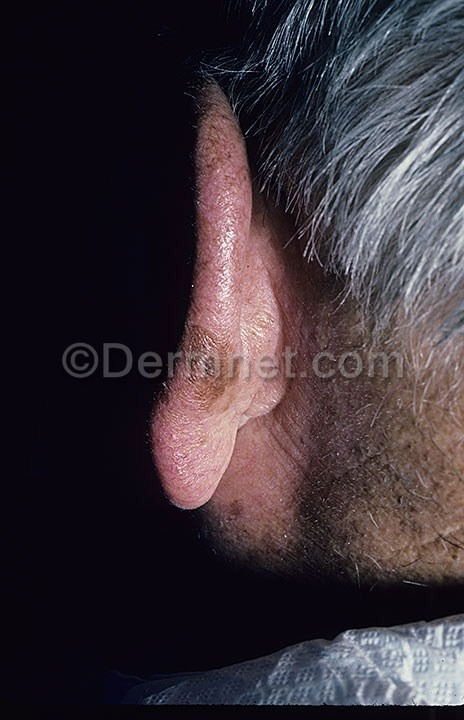Melasma: (305, 381, 464, 571), (215, 486, 315, 562), (185, 321, 232, 350), (185, 378, 230, 406)
